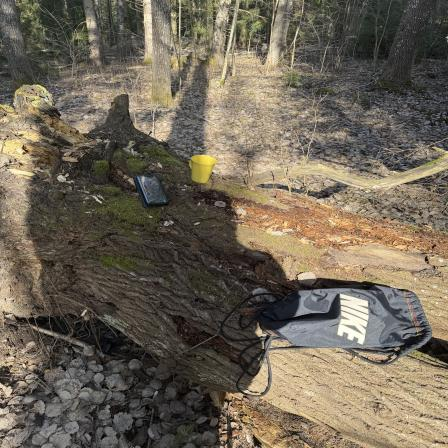phone: (129, 171, 175, 212)
yellow_cup: (184, 153, 222, 185)
